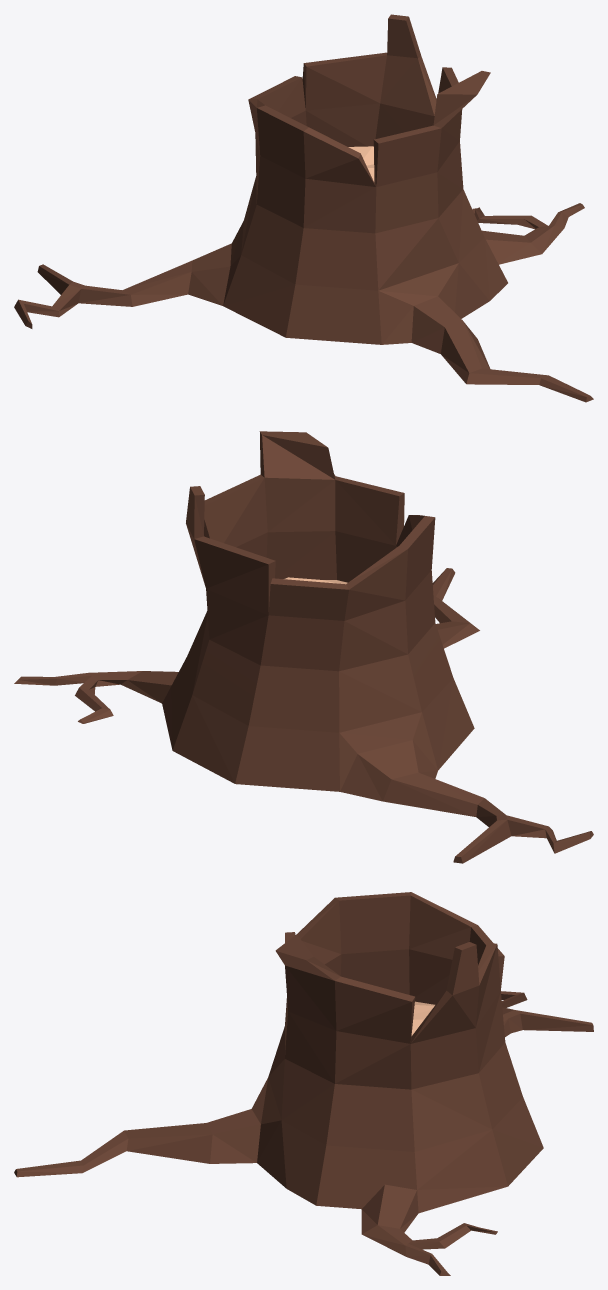
File: TreeTrunk_3.fbx
The picture shows the model from 3 angles, top to bottom: view 1: azimuth 30°, elevation 25°; view 2: azimuth 150°, elevation 25°; view 3: azimuth 270°, elevation 25°; orthographic projection. The views are drawn at different scales.
Parts seen in each view (by area): view 1: TreeTrunk_3; view 2: TreeTrunk_3; view 3: TreeTrunk_3.
Boxes of the visible parts, x1=… form: TreeTrunk_3: x1=14, y1=14, x2=593, y2=402; TreeTrunk_3: x1=14, y1=431, x2=593, y2=863; TreeTrunk_3: x1=14, y1=892, x2=593, y2=1275.
Size of the model in its own units: 1.84 by 0.7293 by 1.6.
